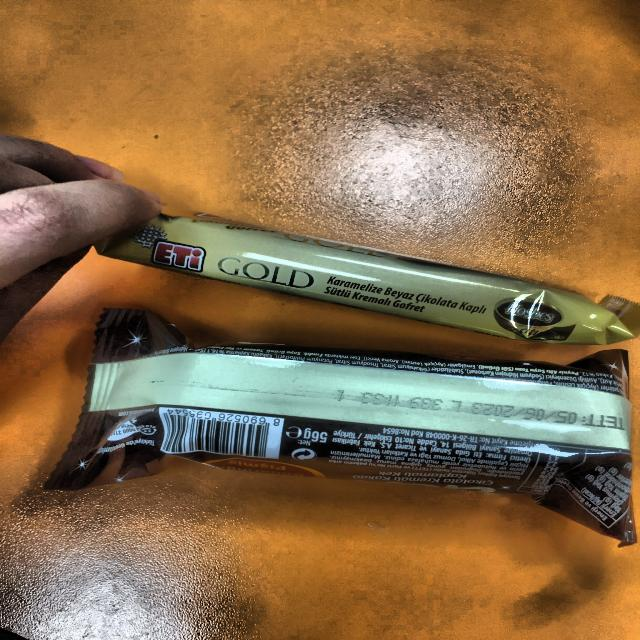Plastic: (38, 307, 640, 547), (98, 202, 640, 347)
